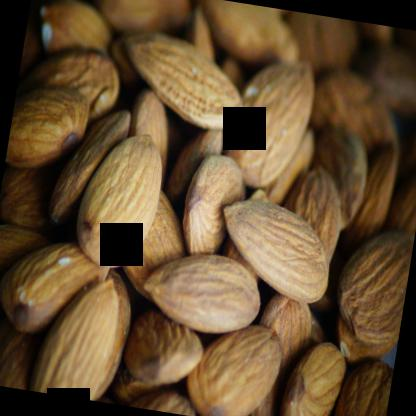almond: (112, 22, 250, 132), (70, 122, 169, 274), (220, 49, 316, 195), (211, 195, 337, 306), (0, 229, 106, 346), (36, 264, 125, 402), (140, 245, 266, 334), (185, 313, 287, 415), (333, 223, 414, 346), (178, 149, 249, 264), (5, 78, 91, 170), (122, 308, 208, 388), (277, 334, 350, 415), (35, 0, 118, 62)
